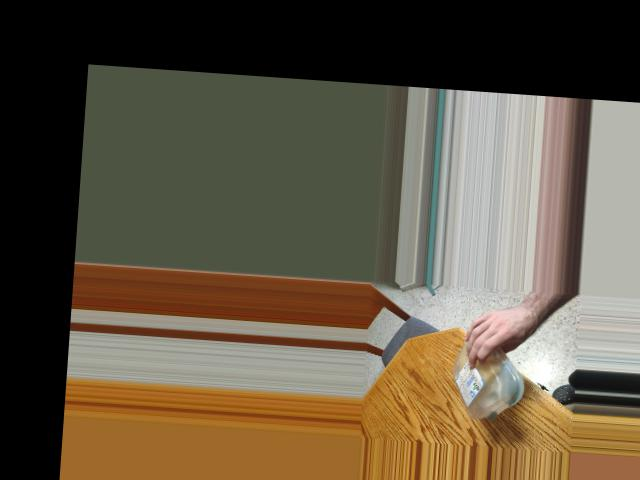cheese: (445, 326, 526, 424)
